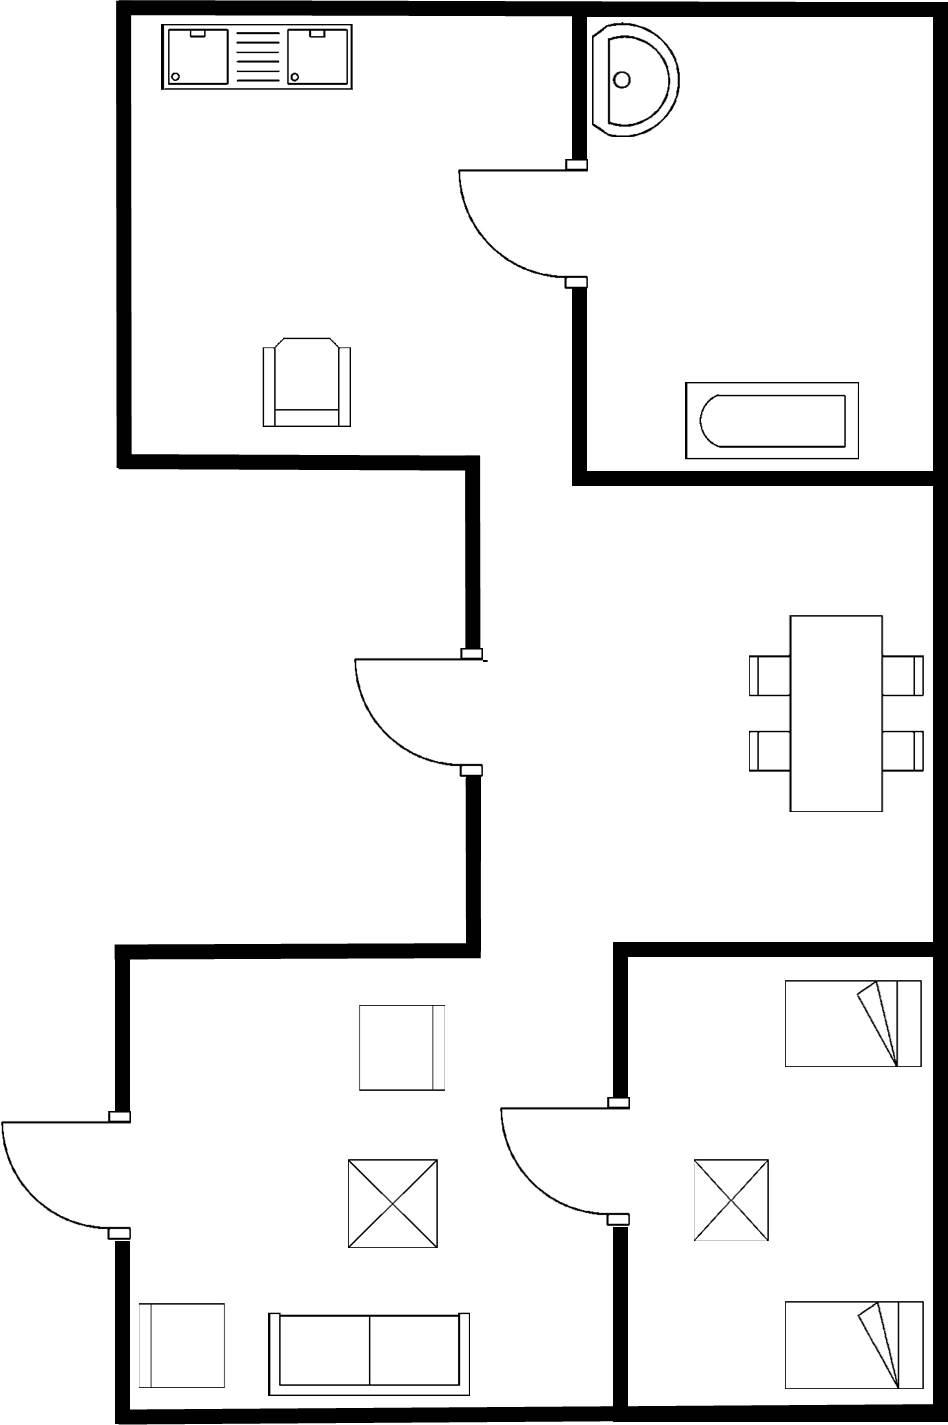sink: (154, 18, 359, 95)
